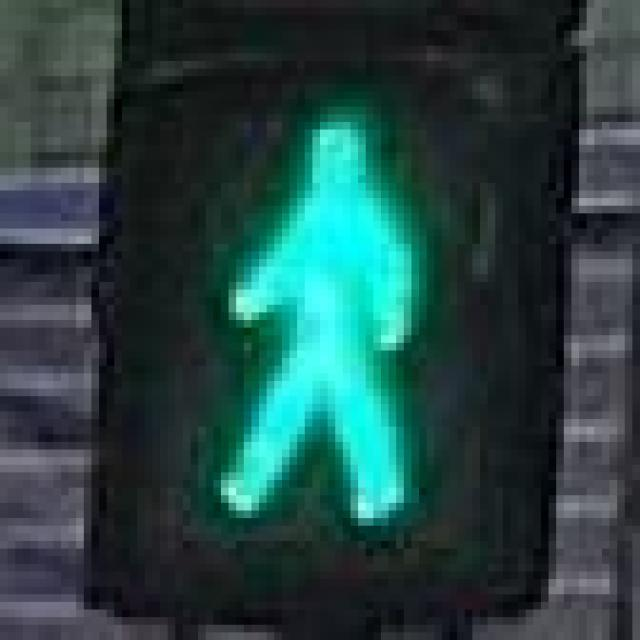geen-crossing: (206, 99, 427, 526)
